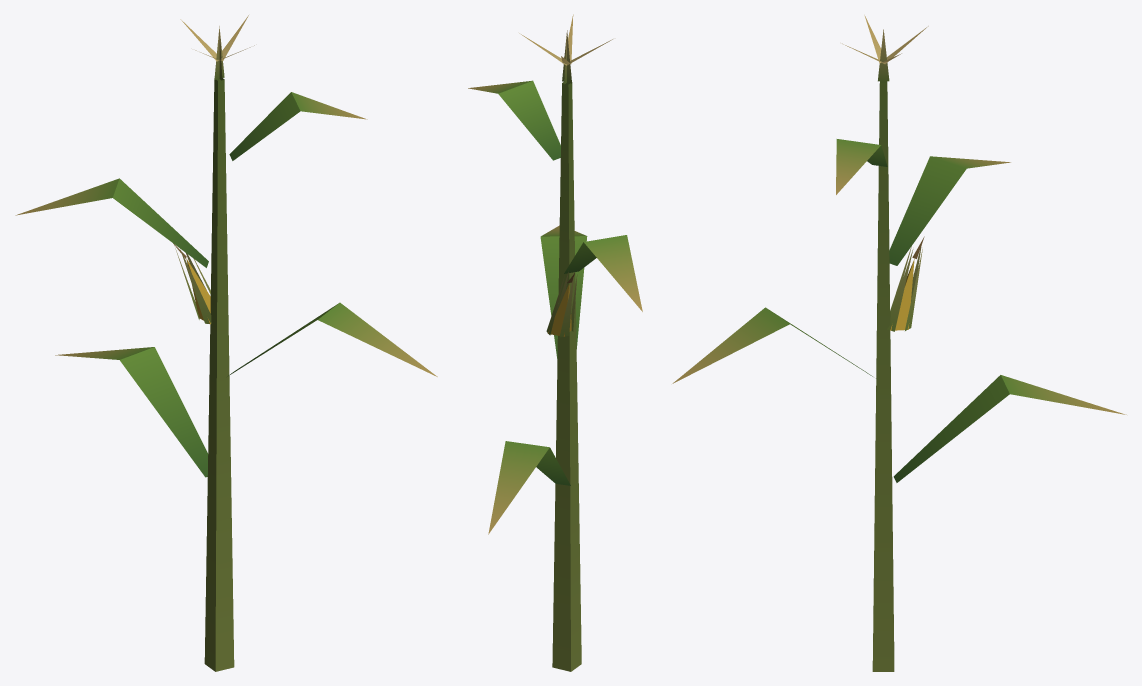
The model's file is corn_stalk_lod1.glb.
The picture shows the model from 3 angles, left to right: view 1: azimuth 30°, elevation 25°; view 2: azimuth 150°, elevation 25°; view 3: azimuth 270°, elevation 25°; orthographic projection.
Visible parts, largest first — view 1: Stalk; view 2: Stalk; view 3: Stalk.
Boxes of the visible parts, left/top/right/bottom form: Stalk: left=15, top=15, right=437, bottom=671; Stalk: left=468, top=14, right=642, bottom=671; Stalk: left=672, top=15, right=1126, bottom=671.
Size of the model in its own units: 1.04 by 2.4 by 1.55.
